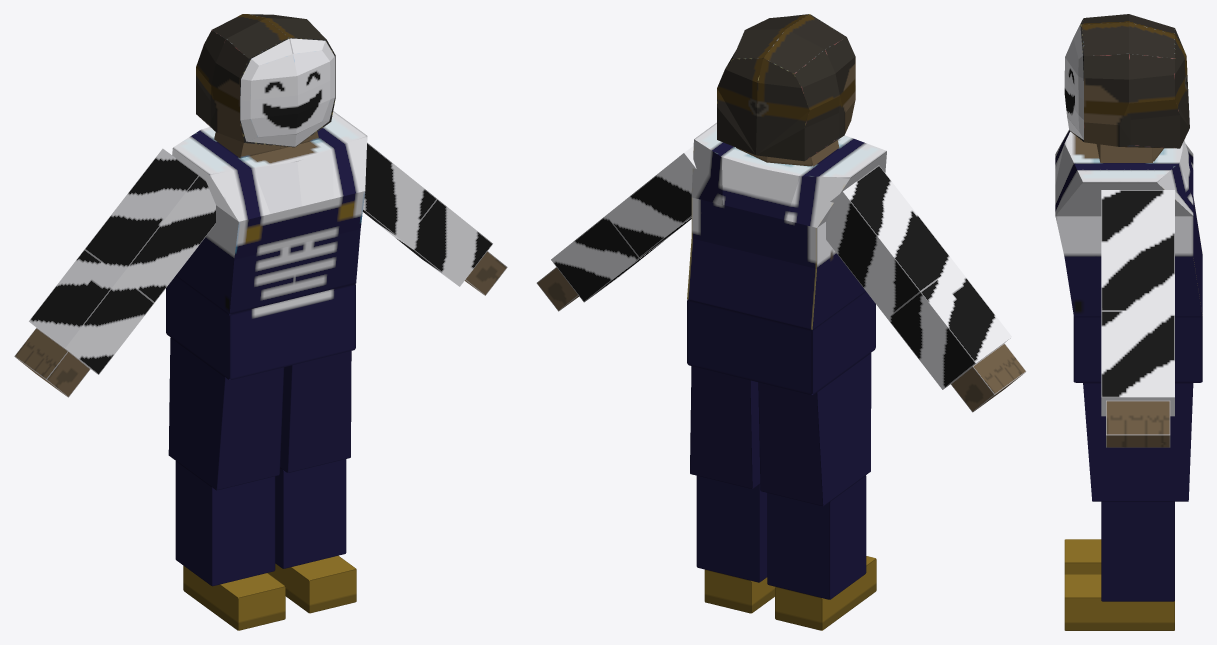
Rendered from Slasher.fbx.
The picture shows the model from 3 angles, left to right: view 1: azimuth 30°, elevation 25°; view 2: azimuth 150°, elevation 25°; view 3: azimuth 270°, elevation 25°; orthographic projection.
Visible parts, largest first — view 1: Chest, Head, Thigh, cuboid_3, Calve, Pelvis, cuboid_4, Pelvis_1, Thigh_1, Calve_1, cuboid_1, foot (+4 smaller); view 2: Chest, Head, Thigh, Pelvis, cuboid_3, Calve, cuboid_4, Thigh_1, Calve_1, Pelvis_1, cuboid, cuboid_1 (+4 smaller); view 3: Head, Chest, cuboid, Thigh_1, Calve_1, cuboid_1, foot_1, Pelvis, cuboid_2, foot.
Boxes of the visible parts, x1,y1,x2,y2 form: Chest: (172, 111, 367, 314); Head: (196, 14, 335, 147); Thigh: (168, 337, 284, 490); cuboid_3: (84, 148, 215, 302); Calve: (175, 461, 275, 586); Pelvis: (166, 275, 355, 379); cuboid_4: (29, 249, 154, 374); Pelvis_1: (229, 285, 355, 379); Thigh_1: (280, 351, 351, 472); Calve_1: (275, 459, 346, 568); cuboid_1: (370, 199, 492, 286); foot: (183, 565, 285, 630); Chest: (687, 122, 886, 329); Head: (717, 14, 855, 161); Thigh: (758, 353, 871, 506); Pelvis: (687, 291, 875, 394); cuboid_3: (826, 165, 956, 318); Calve: (767, 475, 866, 599); cuboid_4: (887, 265, 1011, 389); Thigh_1: (690, 366, 760, 488); Calve_1: (696, 475, 767, 582); Pelvis_1: (687, 300, 812, 394); cuboid: (606, 146, 735, 257); cuboid_1: (551, 215, 672, 302); Head: (1064, 14, 1189, 148); Chest: (1055, 130, 1202, 316); cuboid: (1101, 190, 1174, 310); Thigh_1: (1083, 383, 1193, 501); Calve_1: (1101, 501, 1174, 601); cuboid_1: (1101, 311, 1174, 416); foot_1: (1064, 574, 1174, 630); Pelvis: (1073, 316, 1202, 382); cuboid_2: (1106, 400, 1170, 447); foot: (1064, 539, 1101, 574).
Size of the model in its own units: 365 by 435 by 100.
4 materials, 4 textured.
